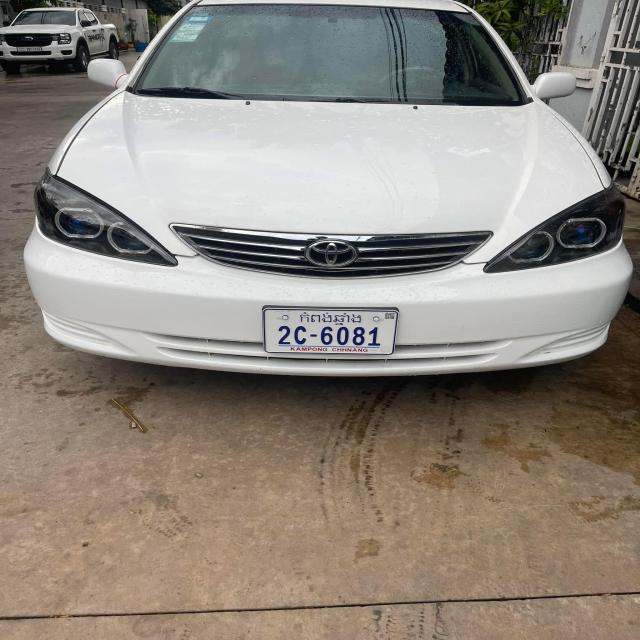Kampong_Chhnang: (297, 309, 362, 326)
